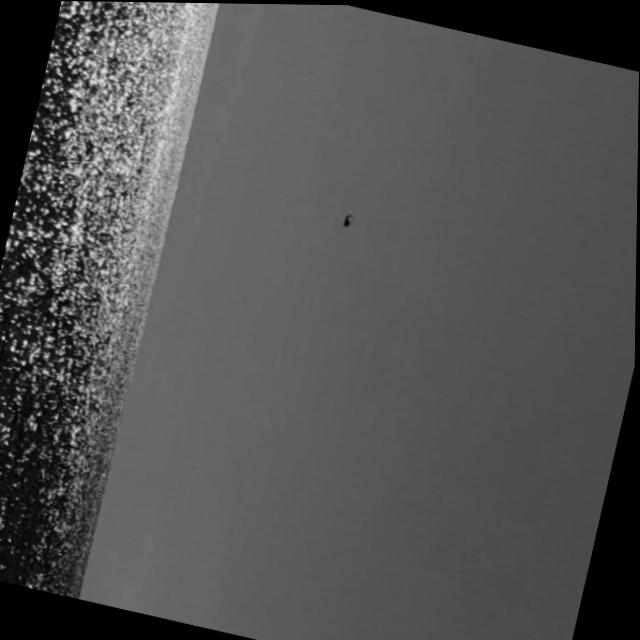helikopter: (321, 191, 371, 239)
